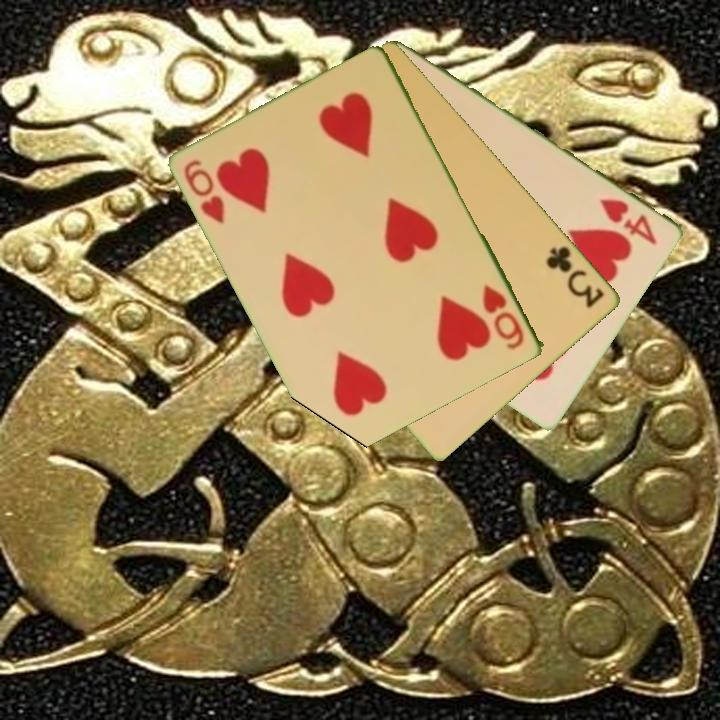3c: (543, 242, 608, 311)
4h: (596, 194, 660, 248)
6h: (479, 281, 528, 353), (181, 156, 229, 227)
